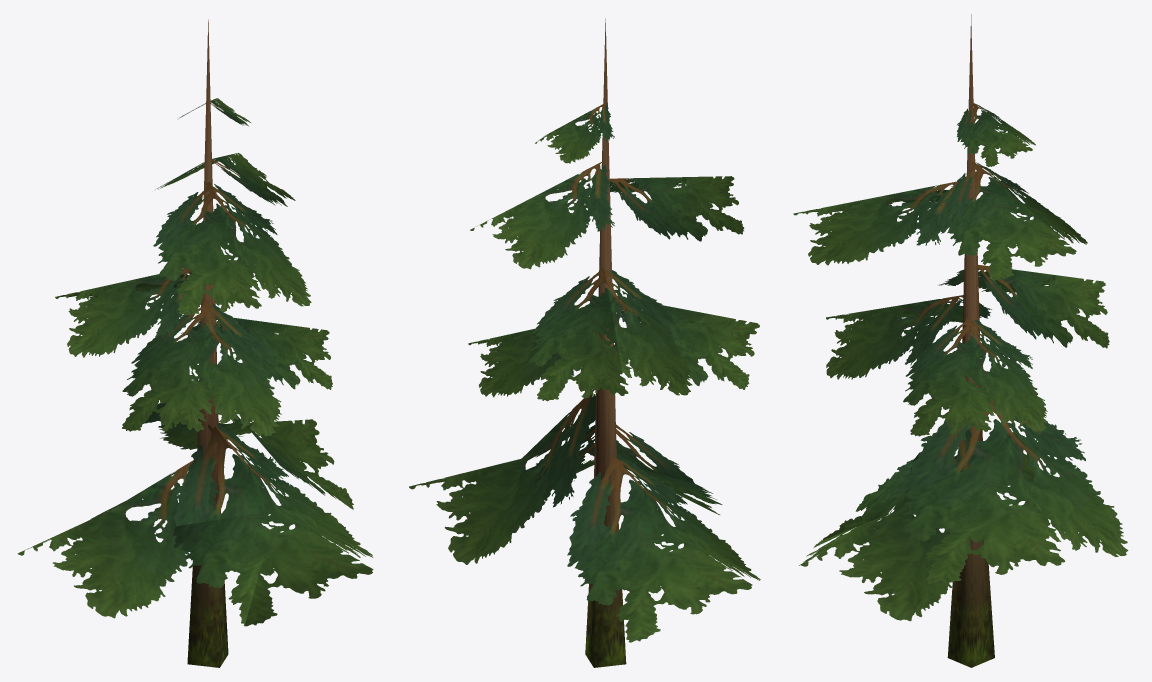
File: zw_shu_tasong_01.FBX
3 renders of one model, left to right at view 1: azimuth 30°, elevation 25°; view 2: azimuth 150°, elevation 25°; view 3: azimuth 270°, elevation 25°, orthographic.
Parts seen in each view (by area): view 1: zw_shu_tasong_01; view 2: zw_shu_tasong_01; view 3: zw_shu_tasong_01.
Part boxes in pixels (bbox=[...]): zw_shu_tasong_01: bbox=[17, 19, 373, 667]; zw_shu_tasong_01: bbox=[409, 18, 760, 667]; zw_shu_tasong_01: bbox=[793, 14, 1128, 667].
Size of the model in its own units: 678 by 1284 by 627.
